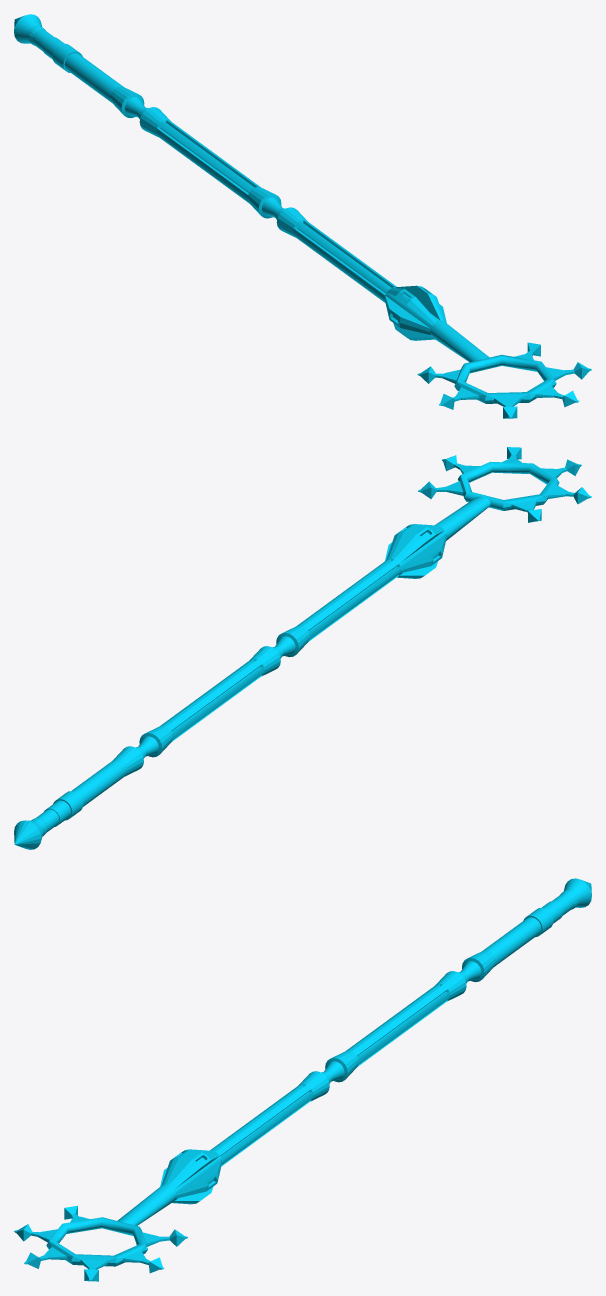
Rendered from StafMain.fbx.
The picture shows the model from 3 angles, top to bottom: view 1: azimuth 30°, elevation 25°; view 2: azimuth 150°, elevation 25°; view 3: azimuth 330°, elevation 25°; orthographic projection.
Parts seen in each view (by area): view 1: StaffBase_low, StaffHead_low; view 2: StaffBase_low, StaffHead_low; view 3: StaffBase_low, StaffHead_low.
Part boxes in pixels (x1,y1,x2,y2): StaffBase_low: (14, 14, 489, 362); StaffHead_low: (443, 354, 565, 406); StaffBase_low: (14, 496, 490, 849); StaffHead_low: (446, 458, 567, 511); StaffBase_low: (117, 878, 591, 1225); StaffHead_low: (38, 1216, 160, 1269).
Bounding box in the file's own units: 570 × 159 × 3478.
